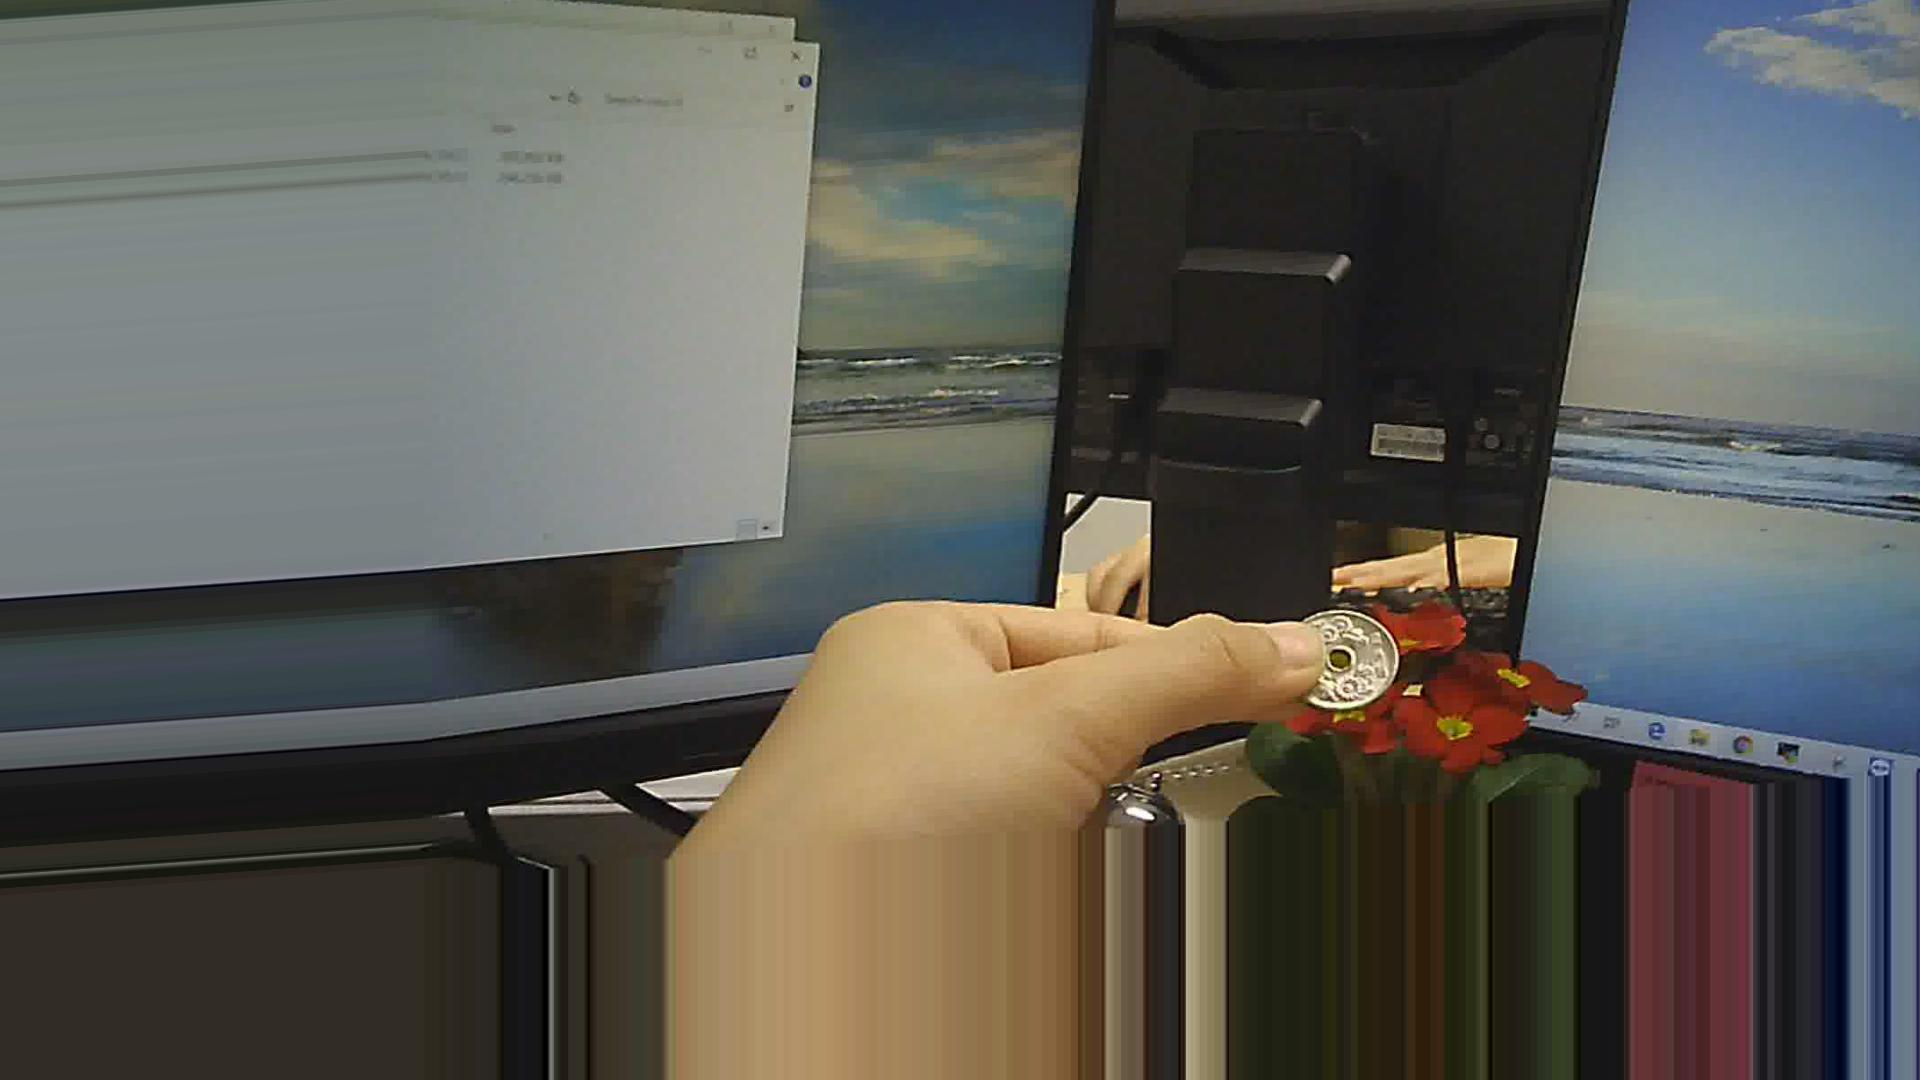50 Yen: (1288, 597, 1408, 716)
